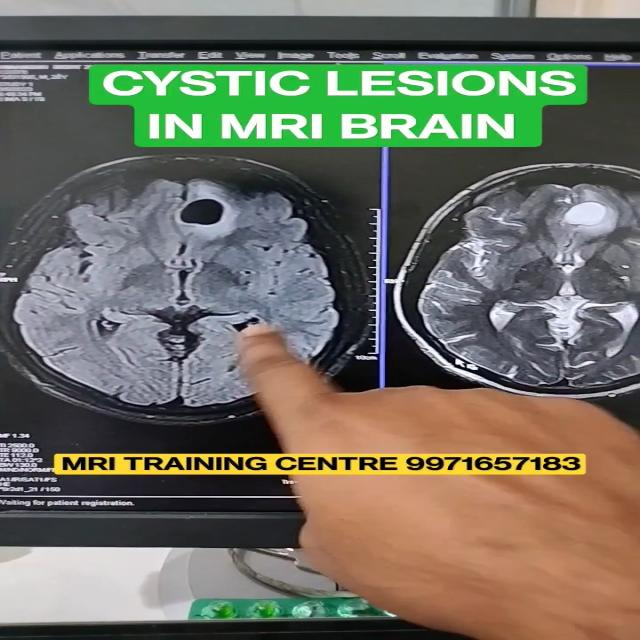tumor: (531, 189, 631, 241), (158, 192, 249, 234)
